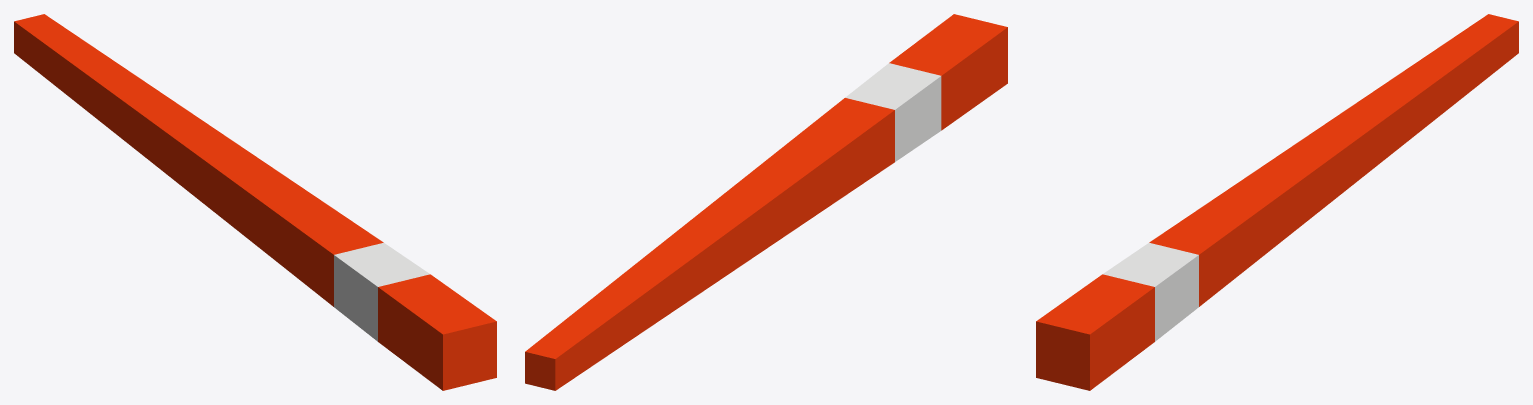
File: Chopsticks_01.fbx
The picture shows the model from 3 angles, left to right: view 1: azimuth 30°, elevation 25°; view 2: azimuth 150°, elevation 25°; view 3: azimuth 330°, elevation 25°; orthographic projection.
Visible parts, largest first — view 1: Chopsticks_01; view 2: Chopsticks_01; view 3: Chopsticks_01.
Part boxes in pixels (x1=…): Chopsticks_01: x1=14, y1=14, x2=496, y2=390; Chopsticks_01: x1=525, y1=14, x2=1007, y2=390; Chopsticks_01: x1=1036, y1=14, x2=1518, y2=390.
Size of the model in its own units: 4.12 by 4.12 by 58.39.
